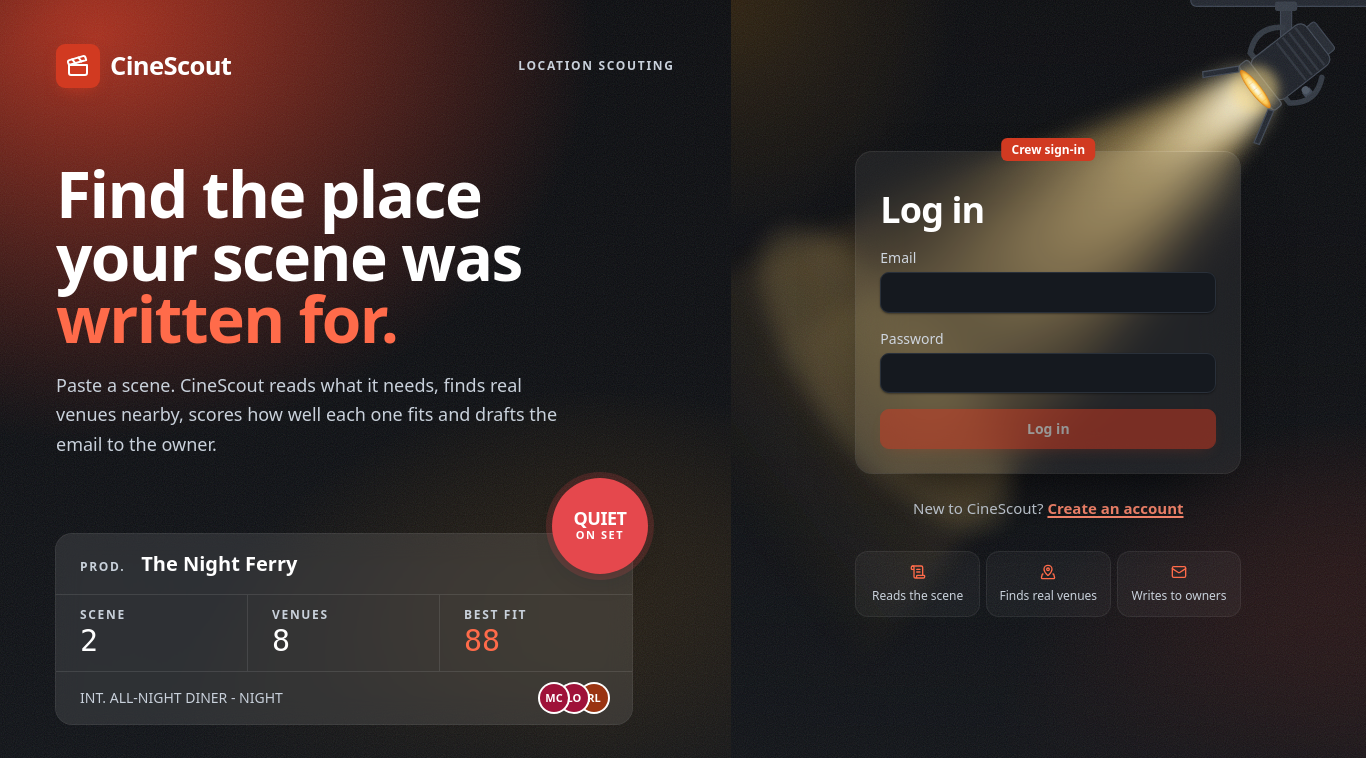
Test case: assessing a venue with AI › is not offered to a viewer
Type "ada@example.com" into the field labelled "Email".
click(1048, 293); type("ada@example.com")  # box left=880, top=272, right=1216, bottom=313
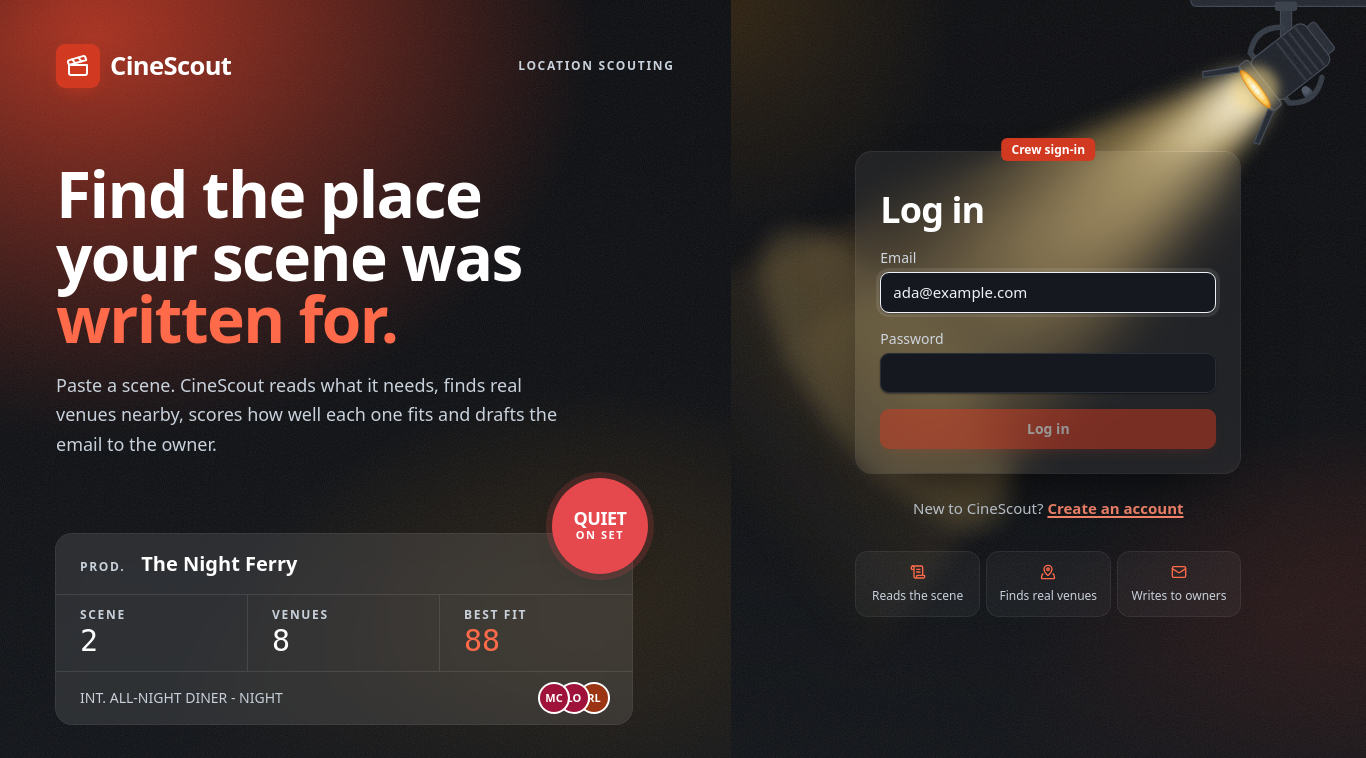
Type "a-long-password" into the password field labelled "Password".
click(1048, 373); type("a-long-password")  # box left=880, top=353, right=1216, bottom=393
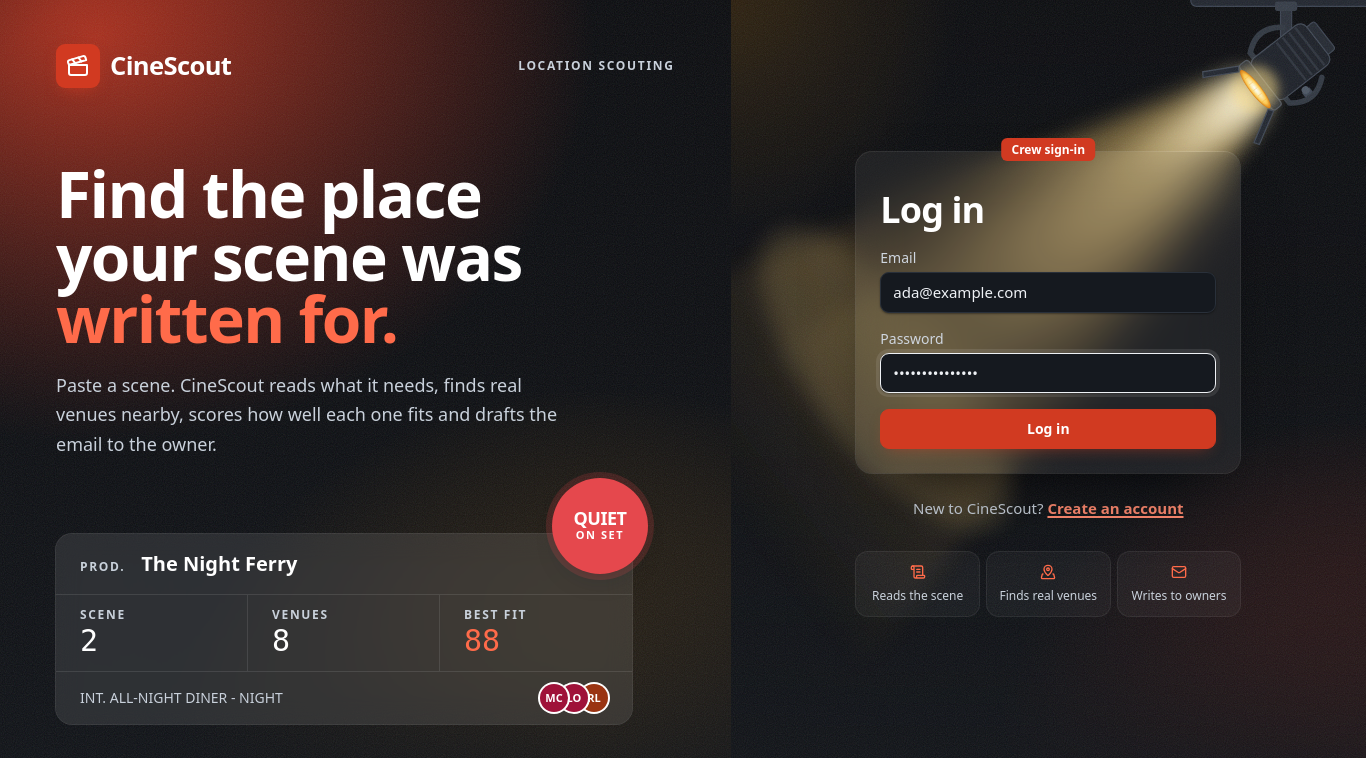
Click the button "Log in".
click(1048, 429)  # box left=880, top=409, right=1216, bottom=449
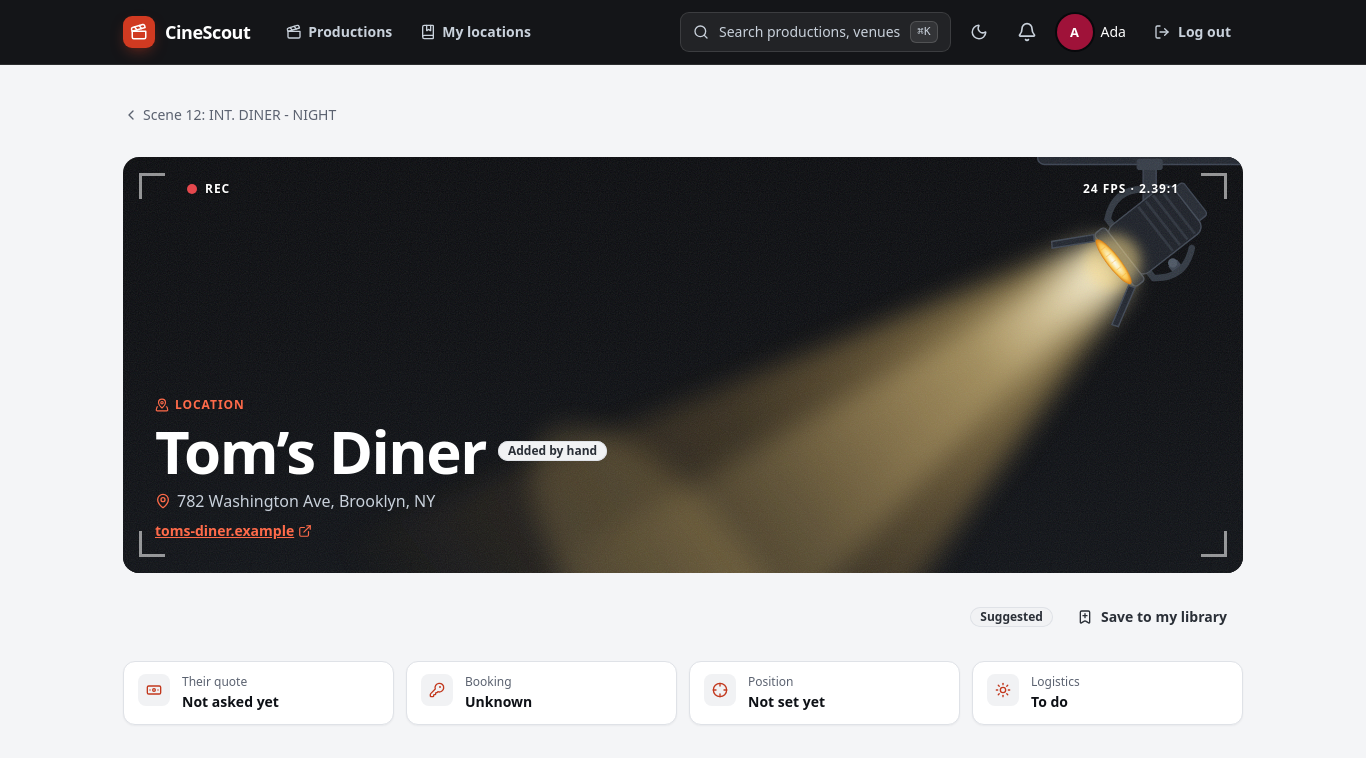
Now the heading "Tom’s Diner" is shown, box left=155, top=421, right=486, bottom=481
